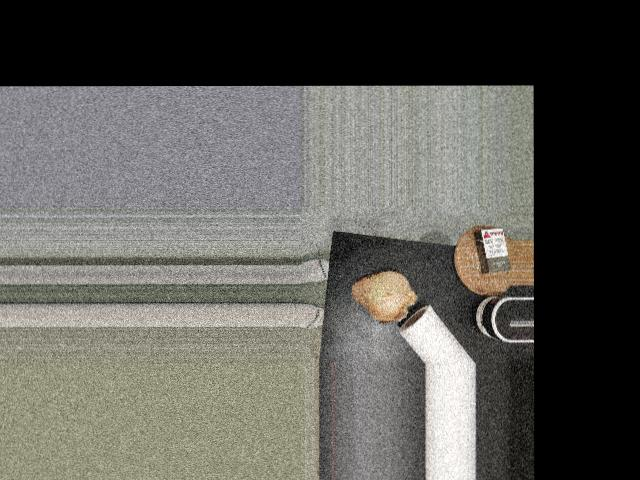onion: (354, 267, 416, 317)
